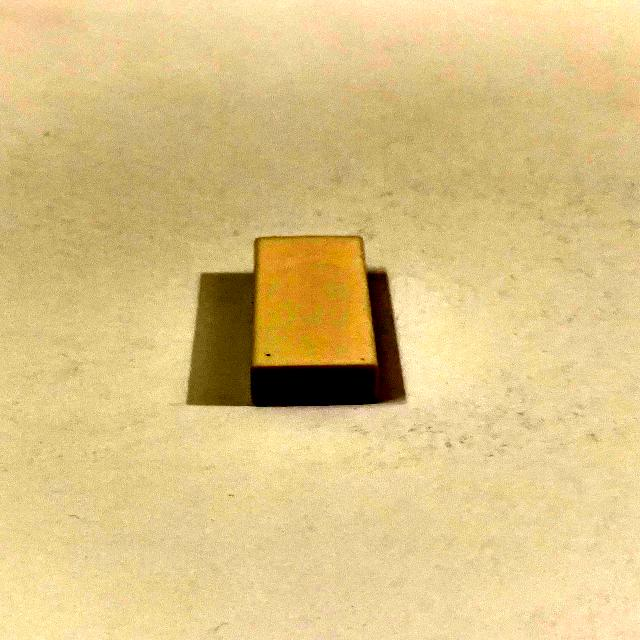Eraser: (218, 222, 426, 414)
